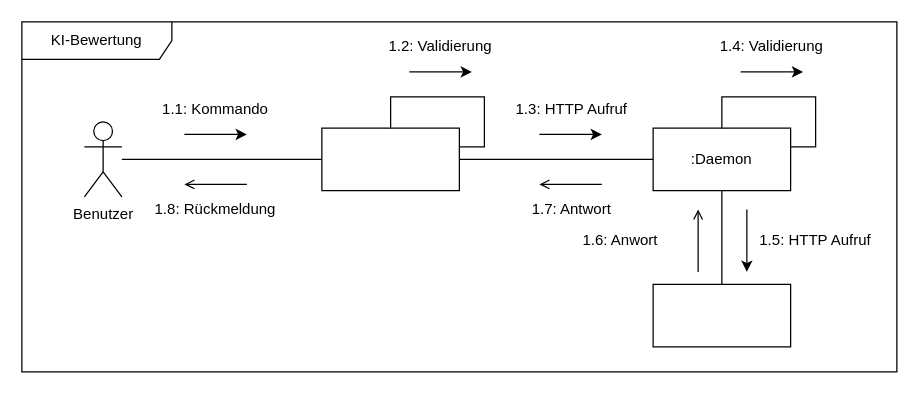
Some shapes in this 919 by 394 pixel diagram are drawn without their labels. Each missing label, with the box of its shape:
:CLI: (321, 127, 459, 191)
:OpenAI: (652, 283, 791, 347)
